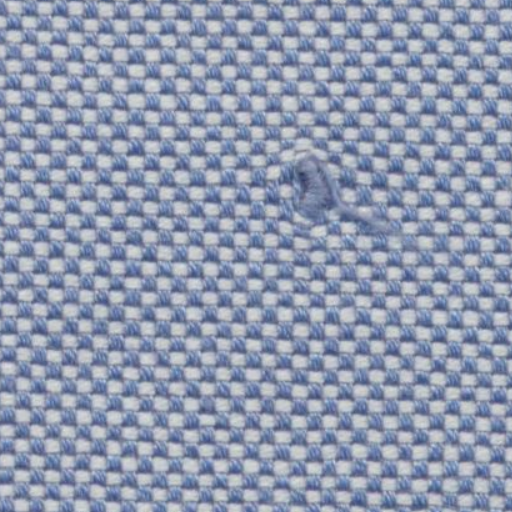MianQiu: (253, 126, 406, 267)
